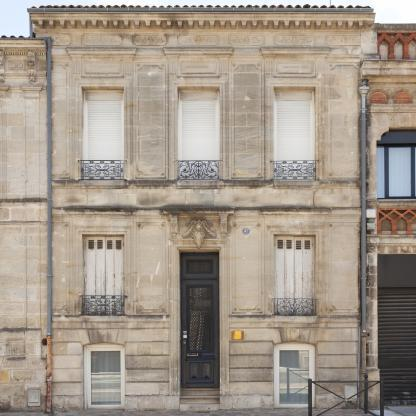Building Outline: (27, 4, 380, 410)
Cornice: (162, 207, 235, 234), (77, 329, 129, 346), (268, 329, 322, 345), (66, 46, 136, 56), (67, 207, 137, 216), (163, 46, 233, 55), (260, 46, 330, 55), (260, 208, 330, 216)
Deco: (182, 220, 217, 249)
Door: (180, 249, 220, 404), (180, 279, 220, 388)
Facade: (26, 1, 380, 410)
Floor Slab: (49, 192, 361, 208)
Ground Floor: (49, 208, 361, 410)
Molding: (36, 33, 361, 46), (33, 20, 363, 28)
Top Floor: (49, 28, 361, 192)
Window: (82, 86, 124, 180), (178, 87, 220, 181), (178, 90, 220, 180), (84, 90, 124, 180), (82, 234, 125, 316), (274, 234, 317, 316), (274, 236, 317, 316), (84, 236, 124, 316), (273, 342, 316, 409), (82, 343, 124, 410), (275, 347, 314, 408), (86, 347, 124, 408), (180, 252, 220, 279)
